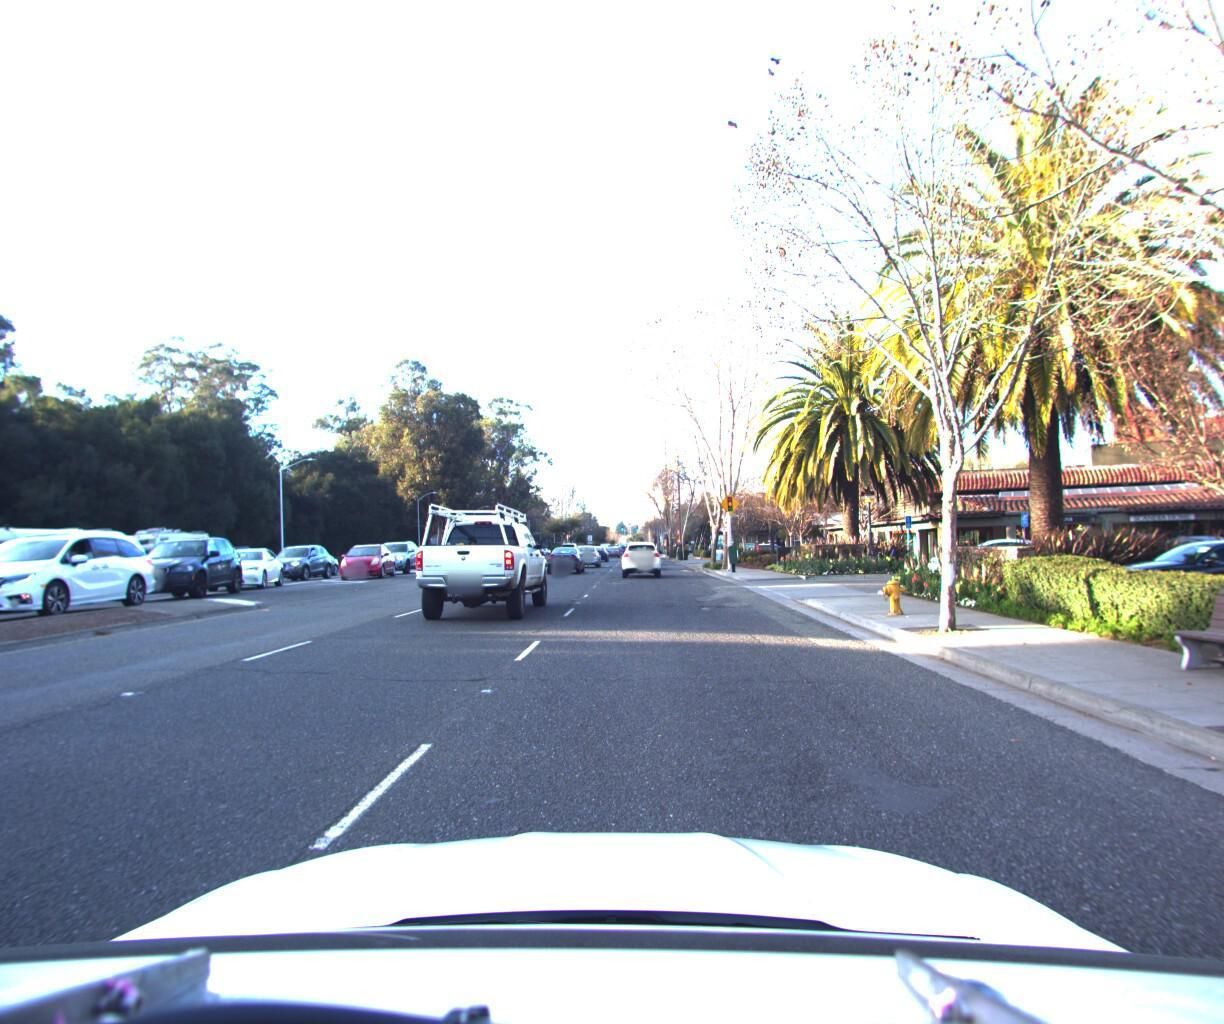car: (408, 498, 550, 623), (1074, 530, 1224, 605), (113, 530, 253, 603), (200, 540, 288, 590), (261, 541, 338, 584), (336, 537, 397, 578), (367, 533, 425, 573), (618, 533, 661, 574), (544, 538, 583, 570), (570, 536, 600, 563)
other_vehicle: (108, 519, 217, 586)
